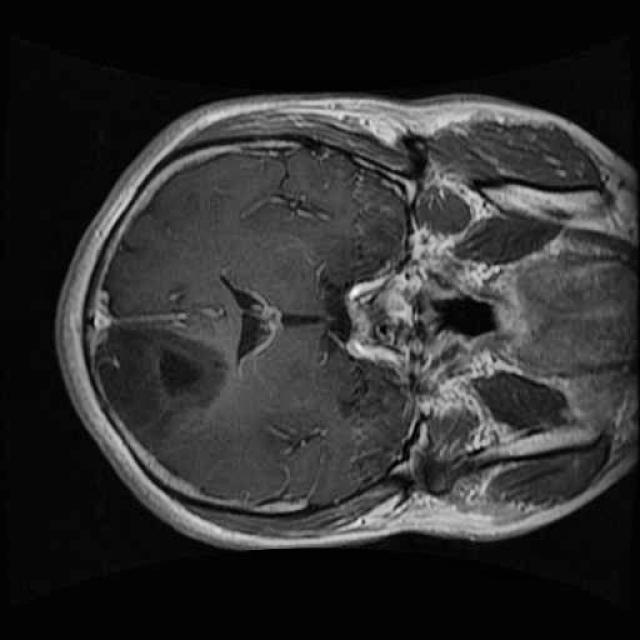Non-Tumor: (80, 308, 243, 462)
